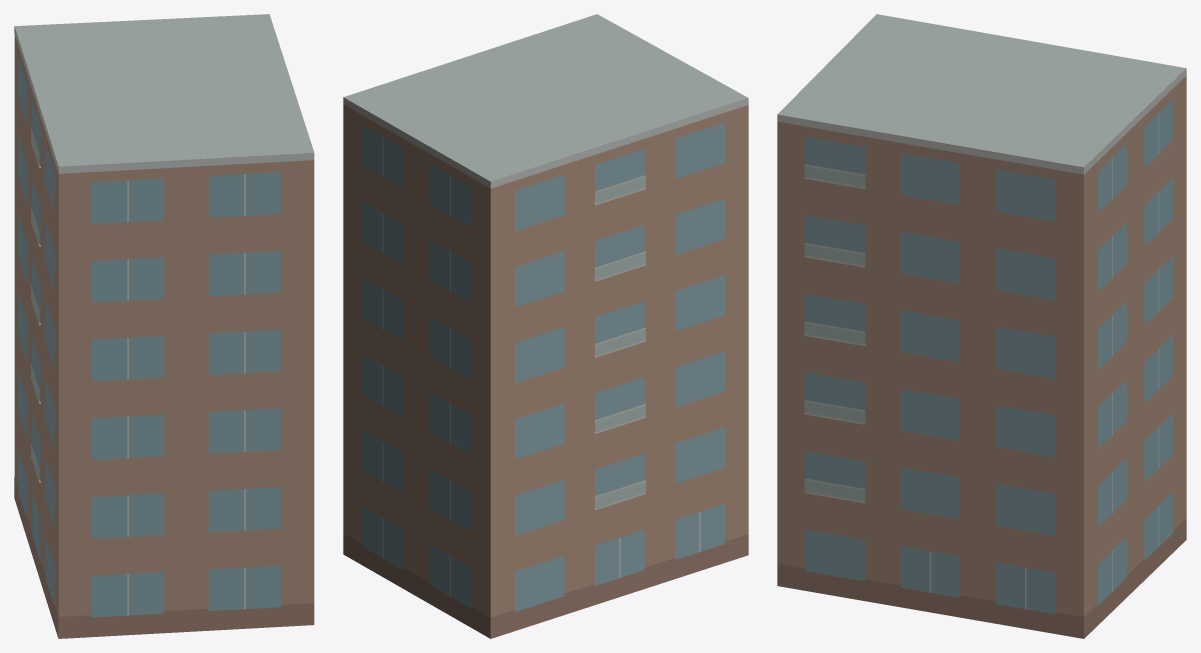
File: survey-upis-32868873.glb
3 views of the same model, side by side, from view 1: azimuth 30°, elevation 25°; view 2: azimuth 150°, elevation 25°; view 3: azimuth 270°, elevation 25° (orthographic). The views are drawn at different scales.
Visible parts, largest first — view 1: survey-upis-32868873.tmp; view 2: survey-upis-32868873.tmp; view 3: survey-upis-32868873.tmp.
Part boxes in pixels (x1,y1,x2,y2): survey-upis-32868873.tmp: [14, 14, 314, 638]; survey-upis-32868873.tmp: [343, 14, 748, 638]; survey-upis-32868873.tmp: [777, 14, 1186, 638].
Bounding box in the file's own units: 11.24 × 16.1 × 12.68.
